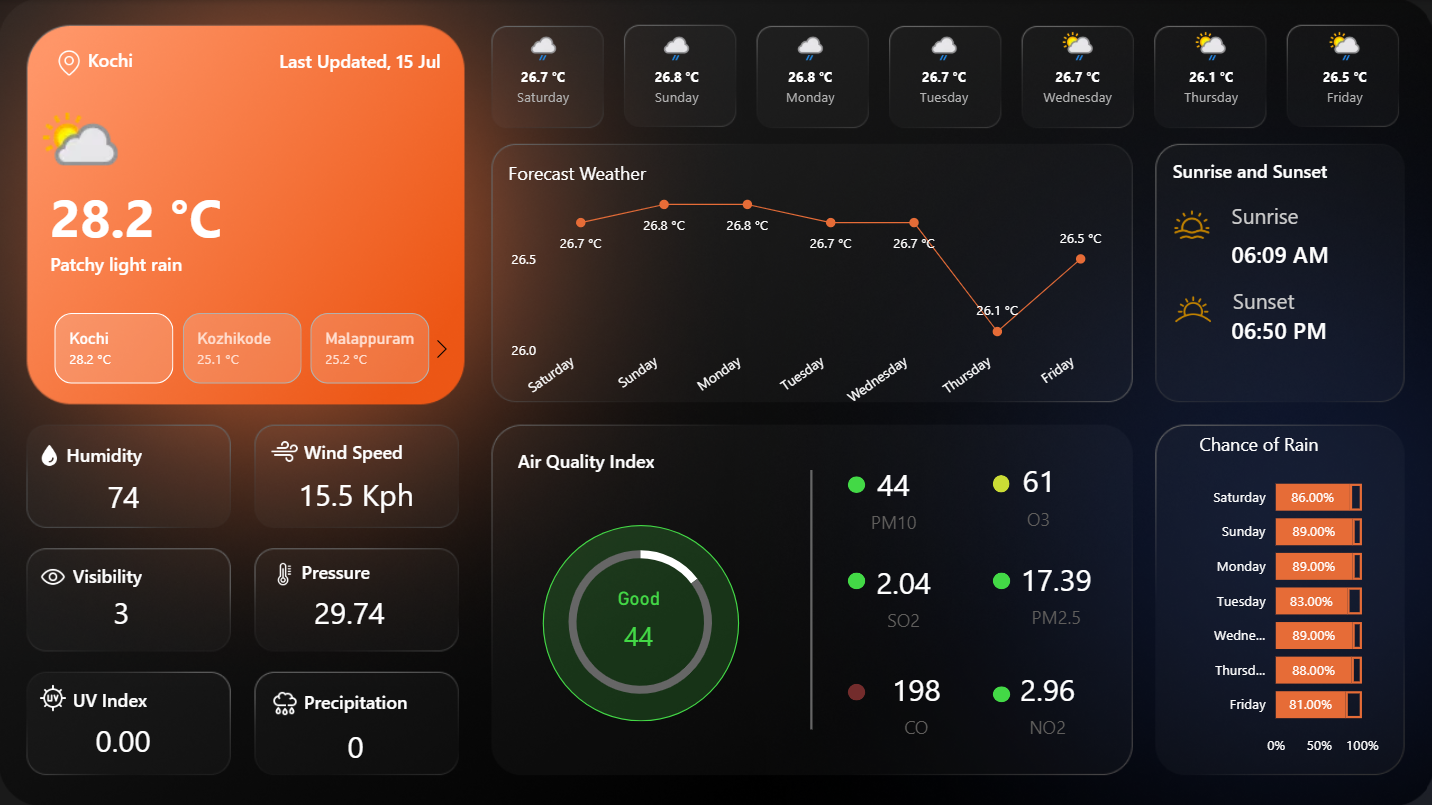

The page's visual inventory and layout, read from the dashboard file:
{"tool":"powerbi","page":{"name":"Page 1","canvas":[1280,720],"ordinal":0},"visuals":[{"type":"shape","box":[484.2,467.2,174.9,174.9],"z":0},{"type":"advancedSlicerVisual","fields":{"Values":["Locations.location.name"]},"box":[24.1,274.1,385.7,73.6],"z":1000},{"type":"shape","box":[45.7,158.6,170,67.2],"z":2000},{"type":"shape","box":[45.7,214.4,275.3,39.3],"z":3000},{"type":"shape","box":[225.9,33,167.5,40.6],"z":4000},{"type":"shape","box":[79,33.4,95.7,39],"z":5000},{"type":"image","box":[45.6,40.1,33.4,32.3],"z":6000},{"type":"cardVisual","fields":{"Data":["Min(Current.current.condition.icon)"]},"box":[12.2,72.2,99.1,80.8],"z":7000},{"type":"image","box":[30.1,496.5,35.6,34.5],"z":8000},{"type":"shape","box":[65.7,492,85.7,40.1],"z":9000},{"type":"image","box":[30.1,390.7,30,30],"z":10000},{"type":"image","box":[30.1,604.5,35.6,34.5],"z":11000},{"type":"image","box":[237.1,384,34.5,35.6],"z":12000},{"type":"image","box":[239.3,496.5,30.1,30.1],"z":13000},{"type":"image","box":[237.1,608.9,35.6,35.6],"z":14000},{"type":"shape","box":[60.1,384,85.7,40.1],"z":15000},{"type":"shape","box":[65.7,602.2,85.7,40.1],"z":16000},{"type":"shape","box":[271.6,381.8,94.6,40.1],"z":17000},{"type":"shape","box":[269.4,488.7,85.7,40.1],"z":18000},{"type":"shape","box":[271.6,604.5,116.9,40.1],"z":19000},{"type":"card","fields":{"Values":["Sum(Current.current.humidity)"]},"box":[82,422.3,57.5,42.8],"z":20000},{"type":"card","fields":{"Values":["_Measures.Wind_Speed"]},"box":[258.3,419.8,119.9,42.8],"z":21000},{"type":"card","fields":{"Values":["Sum(Current.current.vis_km)"]},"box":[91.8,528.7,35.5,35.5],"z":22000},{"type":"card","fields":{"Values":["Sum(Current.current.uv)"]},"box":[62.4,638.9,96.7,42.8],"z":23000},{"type":"card","fields":{"Values":["Sum(Current.current.precip_in)"]},"box":[269.3,645,96.7,42.8],"z":24000},{"type":"card","fields":{"Values":["Sum(Current.current.pressure_in)"]},"box":[243.6,525.1,137.1,42.8],"z":25000},{"type":"advancedSlicerVisual","fields":{"Values":["Forecast_Day.Day_Name"]},"box":[424.1,17.8,836,94.6],"z":26000},{"type":"lineChart","title":"Forecast Weather","fields":{"Y":["Sum(Forecast_Day.forecast.forecastday.day.avgtemp_c)"],"Category":["Forecast_Day.Day_Name"]},"box":[448.1,142.5,549.5,239.1],"z":27000},{"type":"shape","box":[1045.4,132.6,177.9,39.5],"z":28000},{"type":"shape","box":[1097.7,191.9,169.8,67.4],"z":29000},{"type":"shape","box":[1097.7,259.3,169.8,67.4],"z":30000},{"type":"shape","box":[1097.7,158.1,74.4,67.4],"z":31000},{"type":"shape","box":[1098.8,233.7,83.7,67.4],"z":32000},{"type":"image","box":[1041.9,177.9,40.7,44.2],"z":33000},{"type":"image","box":[1037.2,248.8,52.3,52.3],"z":34000},{"type":"hundredPercentStackedBarChart","title":"Chance of Rain","fields":{"Y":["Sum(Forecast_Day.forecast.forecastday.day.daily_chance_of_rain)","Current.Left_value_Rain"],"Category":["Forecast_Day.Day_Name"]},"box":[1064,383.7,169.8,297.7],"z":35000},{"type":"shape","box":[461.6,390.7,177.9,39.5],"z":36000},{"type":"card","fields":{"Values":["Sum(Current.current.air_quality.pm10)"]},"box":[763.5,409.8,66.6,67.9],"z":37000},{"type":"card","fields":{"Values":["Sum(Current.current.air_quality.o3)"]},"box":[892.7,405.9,66.6,67.9],"z":38000},{"type":"card","fields":{"Values":["Sum(Current.current.air_quality.so2)"]},"box":[772.6,495.9,66.6,67.9],"z":39000},{"type":"card","fields":{"Values":["Sum(Current.current.air_quality.pm2_5)"]},"box":[892.7,494.6,97.9,67.9],"z":40000},{"type":"card","fields":{"Values":["Sum(Current.current.air_quality.co)"]},"box":[771.3,592.5,91.4,67.9],"z":41000},{"type":"card","fields":{"Values":["Sum(Current.current.air_quality.no2)"]},"box":[884.8,592.5,97.9,67.9],"z":42000},{"type":"shape","box":[755.6,424.1,15.7,15],"z":43000},{"type":"shape","box":[884.8,422.8,15,15.7],"z":44000},{"type":"shape","box":[755.6,510.3,15.7,15],"z":45000},{"type":"shape","box":[884.8,510.3,15.7,15],"z":46000},{"type":"shape","box":[755.6,609.5,15.7,15],"z":47000},{"type":"shape","box":[884.8,610.8,15.7,14.4],"z":48000},{"type":"shape","box":[708.6,418.9,28.7,231],"z":49000},{"type":"card","fields":{"Values":["Sum(Current.current.air_quality.pm10)"]},"box":[536.4,523.3,66.6,69.2],"z":50000},{"type":"donutChart","fields":{"Y":["Sum(Current.current.air_quality.pm10)","_Measures.Left_value_PM10"]},"box":[486.8,468.5,169.7,171],"z":51000}]}

Visuals, with their boxes in screenshot pixels (x1, y1, x2, y2), scaled from the page's 1280x720 canvas onto the 1432x805 screenshot:
shape: (left=542, top=522, right=737, bottom=718)
advancedSlicerVisual - Locations.location.name: (left=27, top=306, right=458, bottom=389)
shape: (left=51, top=177, right=241, bottom=252)
shape: (left=51, top=240, right=359, bottom=284)
shape: (left=253, top=37, right=440, bottom=82)
shape: (left=88, top=37, right=195, bottom=81)
image: (left=51, top=45, right=88, bottom=81)
cardVisual - Min(Current.current.condition.icon): (left=14, top=81, right=125, bottom=171)
image: (left=34, top=555, right=74, bottom=594)
shape: (left=74, top=550, right=169, bottom=595)
image: (left=34, top=437, right=67, bottom=470)
image: (left=34, top=676, right=74, bottom=714)
image: (left=265, top=429, right=304, bottom=469)
image: (left=268, top=555, right=301, bottom=589)
image: (left=265, top=681, right=305, bottom=721)
shape: (left=67, top=429, right=163, bottom=474)
shape: (left=74, top=673, right=169, bottom=718)
shape: (left=304, top=427, right=410, bottom=472)
shape: (left=301, top=546, right=397, bottom=591)
shape: (left=304, top=676, right=435, bottom=721)
card - Sum(Current.current.humidity): (left=92, top=472, right=156, bottom=520)
card - _Measures.Wind_Speed: (left=289, top=469, right=423, bottom=517)
card - Sum(Current.current.vis_km): (left=103, top=591, right=142, bottom=631)
card - Sum(Current.current.uv): (left=70, top=714, right=178, bottom=762)
card - Sum(Current.current.precip_in): (left=301, top=721, right=409, bottom=769)
card - Sum(Current.current.pressure_in): (left=273, top=587, right=426, bottom=635)
advancedSlicerVisual - Forecast_Day.Day_Name: (left=474, top=20, right=1410, bottom=126)
"Forecast Weather" lineChart: (left=501, top=159, right=1116, bottom=427)
shape: (left=1170, top=148, right=1369, bottom=192)
shape: (left=1228, top=215, right=1418, bottom=290)
shape: (left=1228, top=290, right=1418, bottom=365)
shape: (left=1228, top=177, right=1311, bottom=252)
shape: (left=1229, top=261, right=1323, bottom=337)
image: (left=1166, top=199, right=1211, bottom=248)
image: (left=1160, top=278, right=1219, bottom=337)
"Chance of Rain" hundredPercentStackedBarChart: (left=1190, top=429, right=1380, bottom=762)
shape: (left=516, top=437, right=715, bottom=481)
card - Sum(Current.current.air_quality.pm10): (left=854, top=458, right=929, bottom=534)
card - Sum(Current.current.air_quality.o3): (left=999, top=454, right=1073, bottom=530)
card - Sum(Current.current.air_quality.so2): (left=864, top=554, right=939, bottom=630)
card - Sum(Current.current.air_quality.pm2_5): (left=999, top=553, right=1108, bottom=629)
card - Sum(Current.current.air_quality.co): (left=863, top=662, right=965, bottom=738)
card - Sum(Current.current.air_quality.no2): (left=990, top=662, right=1099, bottom=738)
shape: (left=845, top=474, right=863, bottom=491)
shape: (left=990, top=473, right=1007, bottom=490)
shape: (left=845, top=571, right=863, bottom=587)
shape: (left=990, top=571, right=1007, bottom=587)
shape: (left=845, top=681, right=863, bottom=698)
shape: (left=990, top=683, right=1007, bottom=699)
shape: (left=793, top=468, right=825, bottom=727)
card - Sum(Current.current.air_quality.pm10): (left=600, top=585, right=675, bottom=662)
donutChart - Sum(Current.current.air_quality.pm10) x _Measures.Left_value_PM10: (left=545, top=524, right=734, bottom=715)
